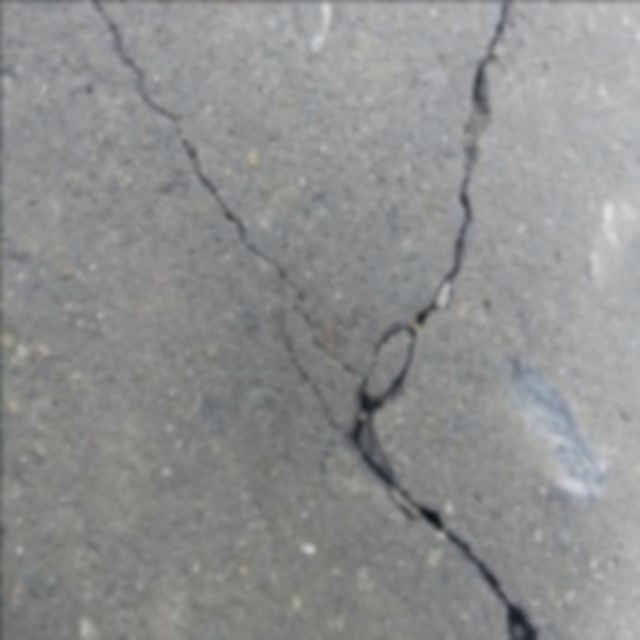SurfaceCrack: (326, 0, 566, 640), (66, 0, 300, 300)
